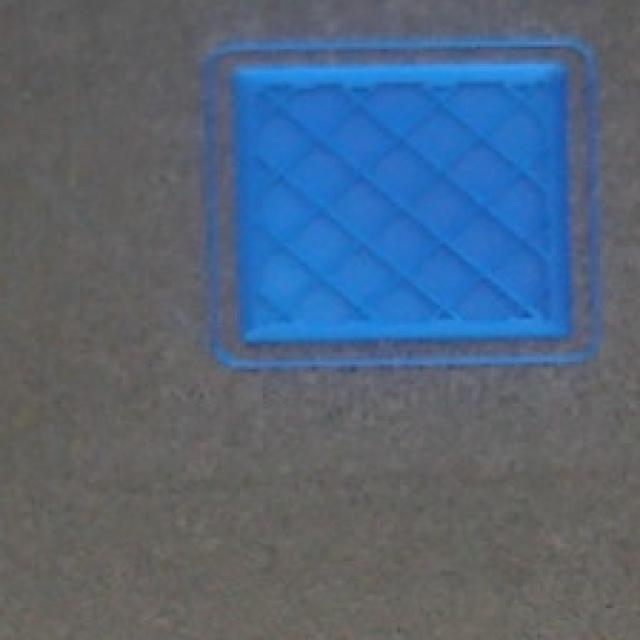noMistake: (225, 66, 582, 355)
